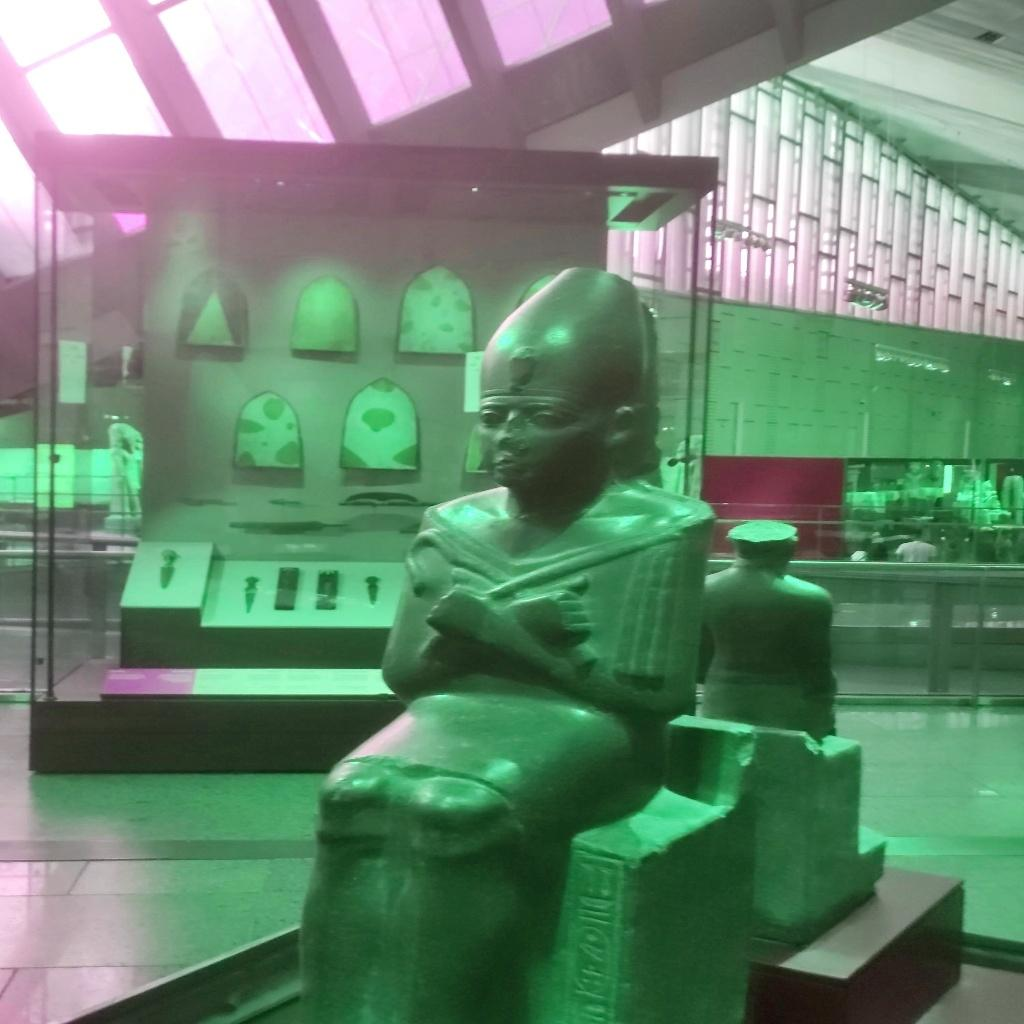Statue of Sobekhotep V: (292, 264, 748, 1020)
